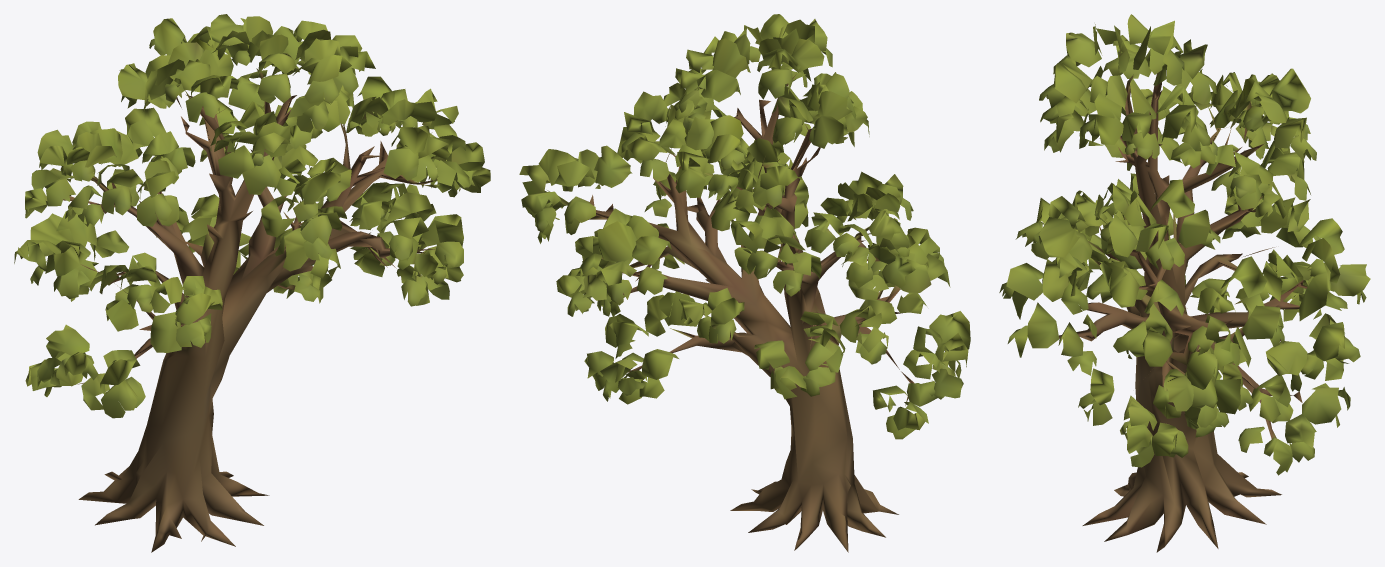
The model's file is tree-4-mid.glb.
The picture shows the model from 3 angles, left to right: view 1: azimuth 30°, elevation 25°; view 2: azimuth 150°, elevation 25°; view 3: azimuth 270°, elevation 25°; orthographic projection. The views are drawn at different scales.
Size of the model in its own units: 0.9595 by 0.9995 by 0.6431.
